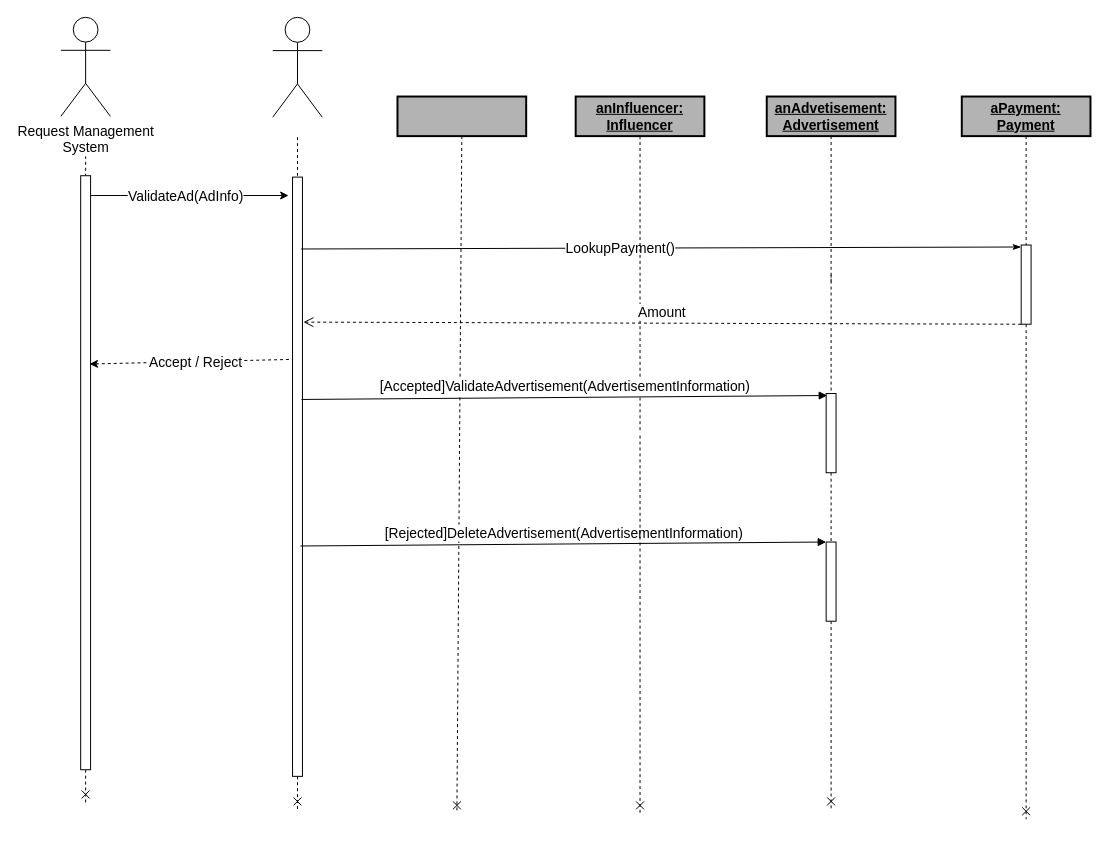
The diagram is 1108 pixels wide and 844 high, and some of its shapes have lost their labels. The box of each missing label's shape, as (x1, y1, x2, y2) in pixels:
aMarketer: Marketer: (396, 95, 527, 137)
anInfluencer: (272, 16, 322, 117)
